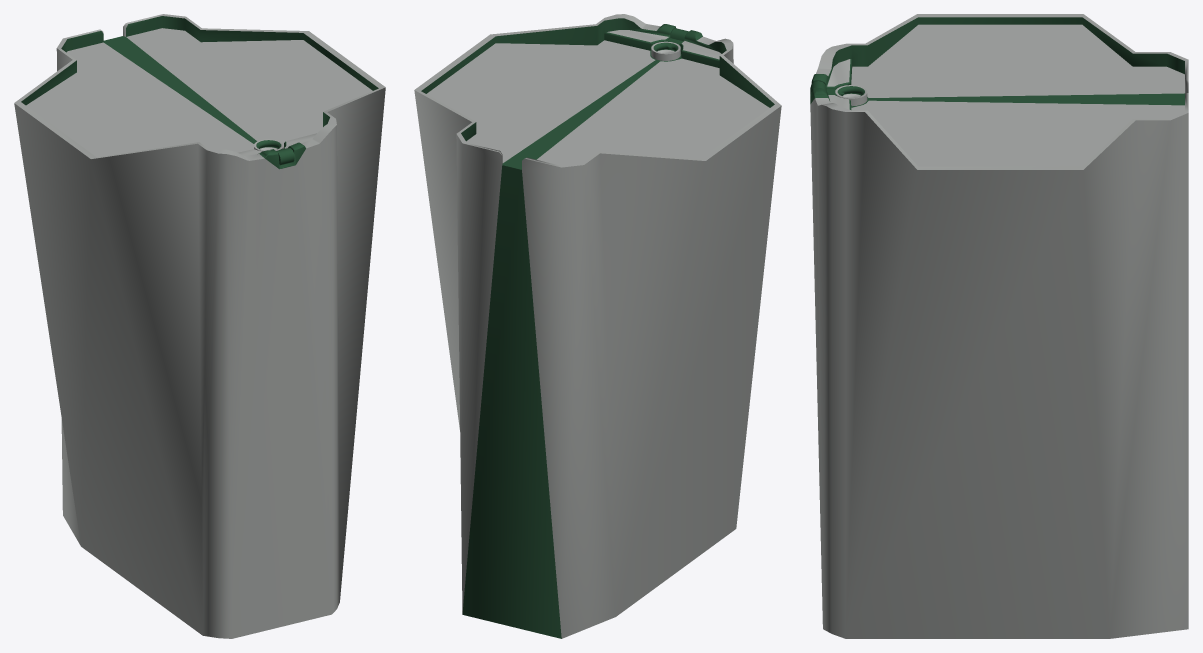
Rendered from Arena_round_door_octagone.fbx.
3 renders of one model, left to right at view 1: azimuth 30°, elevation 25°; view 2: azimuth 150°, elevation 25°; view 3: azimuth 270°, elevation 25°, orthographic. The views are drawn at different scales.
Visible parts, largest first — view 1: arena, door; view 2: arena, door; view 3: arena, door.
Part boxes in pixels (x1,y1,x2,y2): arena: (14, 14, 385, 638); door: (254, 139, 294, 165); arena: (414, 14, 781, 638); door: (651, 28, 688, 60); arena: (810, 14, 1188, 638); door: (810, 81, 867, 106).
Bounding box in the file's own units: 1962 × 3081 × 2013.
